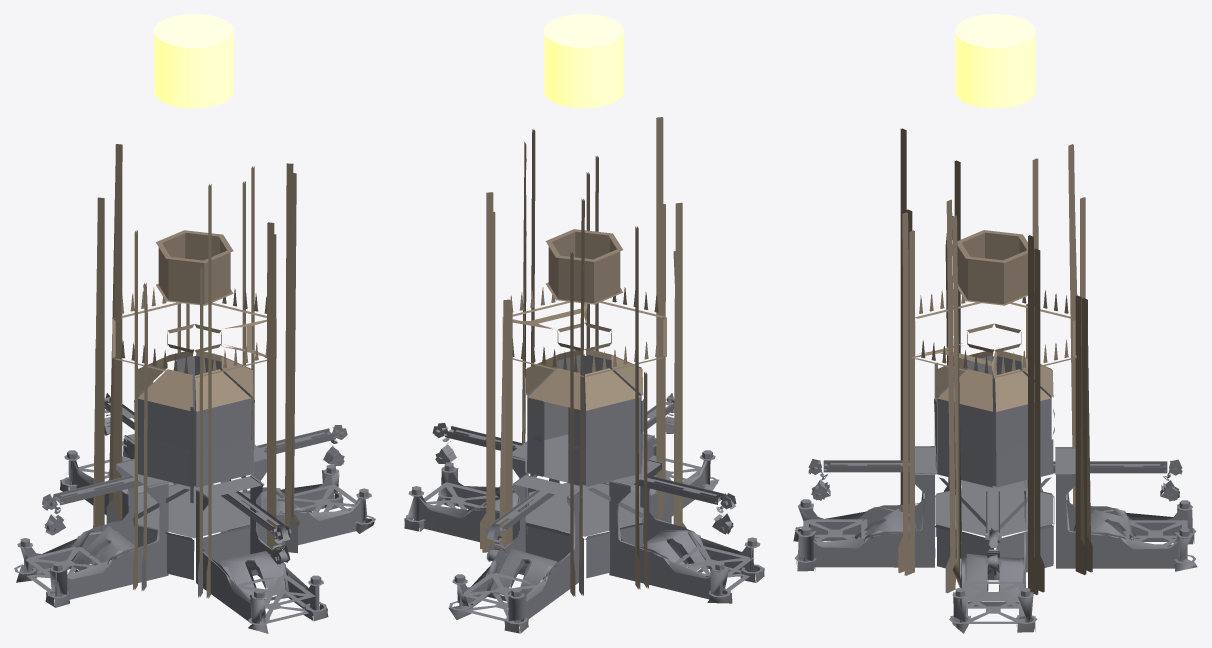
The model's file is beacon.glb.
3 views of the same model, side by side, from view 1: azimuth 30°, elevation 25°; view 2: azimuth 150°, elevation 25°; view 3: azimuth 270°, elevation 25° (orthographic).
Parts seen in each view (by area): view 1: beacon_Building; view 2: beacon_Building; view 3: beacon_Building.
Boxes of the visible parts, x1,y1,x2,y2 form: beacon_Building: [14, 14, 375, 633]; beacon_Building: [404, 14, 764, 633]; beacon_Building: [793, 14, 1197, 633].
Size of the model in its own units: 11.28 by 17.26 by 12.07.
